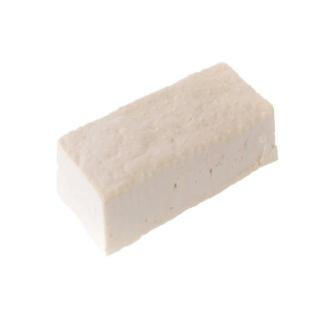Tahu: (52, 56, 285, 266)
